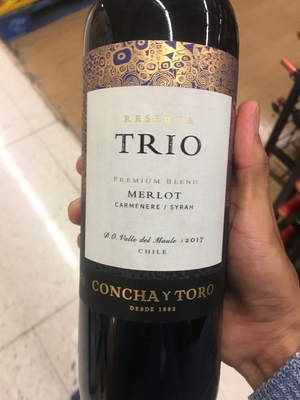trio merlot: (67, 12, 266, 400)
